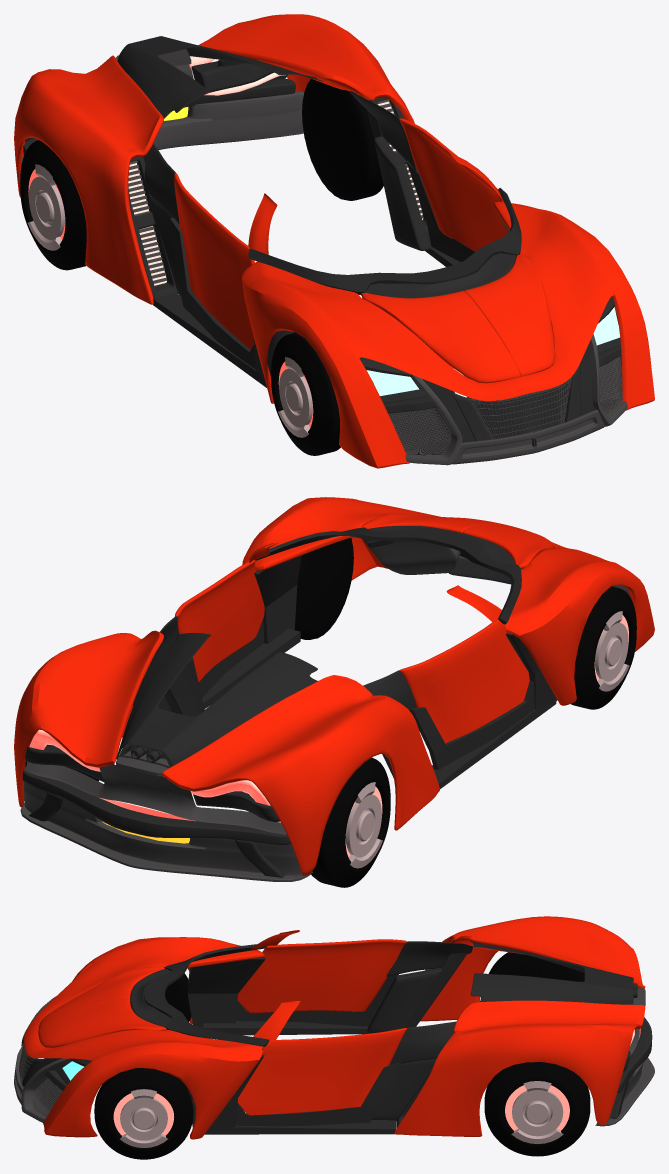
The model's file is muitran.glb.
3 renders of one model, top to bottom at view 1: azimuth 30°, elevation 25°; view 2: azimuth 150°, elevation 25°; view 3: azimuth 270°, elevation 25°, orthographic. The views are drawn at different scales.
Parts seen in each view (by area): view 1: Plane.021_17, Plane.013_18, Plane.019_16, Plane.007_6, Cylinder.006_46, Plane.005_9, Cube.005_38, Plane.003_2, Plane.038_52, Cylinder.001_43, Plane.034_32, Plane.022_19 (+20 smaller); view 2: Plane.013_18, Plane.021_17, Plane.019_16, Plane.005_9, Plane.003_2, Cube.005_38, Cylinder.001_43, Plane.016_35, Cube.001_41, Cylinder.006_46, Plane.020_28, Plane.032_30 (+15 smaller); view 3: Plane.019_16, Plane.005_9, Plane.021_17, Plane.013_18, Cylinder.006_46, Cylinder.001_43, Plane.007_6, Plane.003_2, Plane.020_28, Plane.034_32, Plane.032_30, Cube.003_29 (+13 smaller).
Boxes of the visible parts, x1=… form: Plane.021_17: x1=242, y1=201, x2=654, y2=468; Plane.013_18: x1=14, y1=55, x2=163, y2=304; Plane.019_16: x1=174, y1=118, x2=515, y2=349; Plane.007_6: x1=361, y1=254, x2=555, y2=383; Cylinder.006_46: x1=20, y1=78, x2=383, y2=270; Plane.005_9: x1=198, y1=14, x2=414, y2=123; Cube.005_38: x1=21, y1=90, x2=304, y2=162; Plane.003_2: x1=117, y1=36, x2=323, y2=118; Plane.038_52: x1=248, y1=188, x2=521, y2=294; Cylinder.001_43: x1=271, y1=332, x2=340, y2=455; Plane.034_32: x1=148, y1=136, x2=429, y2=295; Plane.022_19: x1=388, y1=306, x2=627, y2=465; Plane.013_18: x1=162, y1=675, x2=439, y2=875; Plane.021_17: x1=242, y1=497, x2=654, y2=705; Plane.019_16: x1=175, y1=560, x2=529, y2=743; Plane.005_9: x1=14, y1=630, x2=163, y2=807; Plane.003_2: x1=116, y1=633, x2=317, y2=766; Cube.005_38: x1=20, y1=782, x2=312, y2=881; Cylinder.001_43: x1=294, y1=538, x2=636, y2=709; Plane.016_35: x1=24, y1=762, x2=286, y2=834; Cube.001_41: x1=22, y1=766, x2=290, y2=844; Cylinder.006_46: x1=25, y1=758, x2=390, y2=887; Plane.020_28: x1=198, y1=619, x2=534, y2=769; Plane.032_30: x1=254, y1=555, x2=557, y2=709; Plane.019_16: x1=237, y1=939, x2=406, y2=1115; Plane.005_9: x1=394, y1=1000, x2=645, y2=1136; Plane.021_17: x1=24, y1=937, x2=264, y2=1139; Plane.013_18: x1=420, y1=916, x2=645, y2=1021; Cylinder.006_46: x1=484, y1=952, x2=590, y2=1156; Cylinder.001_43: x1=94, y1=973, x2=193, y2=1159; Plane.007_6: x1=38, y1=966, x2=166, y2=1047; Plane.003_2: x1=470, y1=941, x2=633, y2=1004; Plane.020_28: x1=236, y1=974, x2=400, y2=1126; Plane.034_32: x1=367, y1=967, x2=441, y2=1120; Plane.032_30: x1=187, y1=957, x2=265, y2=1130; Cube.003_29: x1=203, y1=1020, x2=395, y2=1134.
Size of the model in its own units: 4.05 by 2.12 by 8.73.
